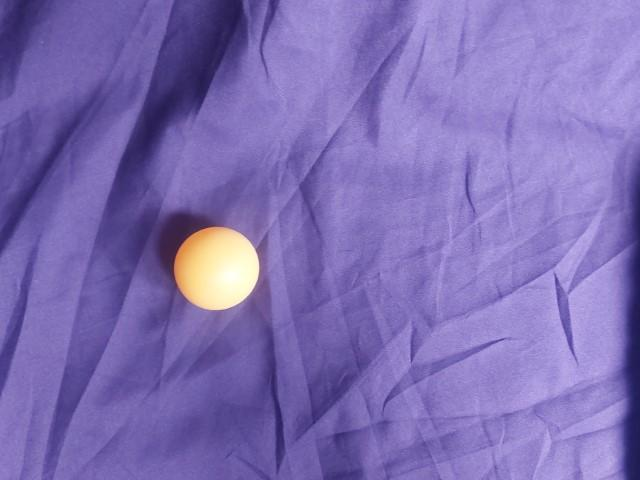oball: (372, 163, 472, 260)
